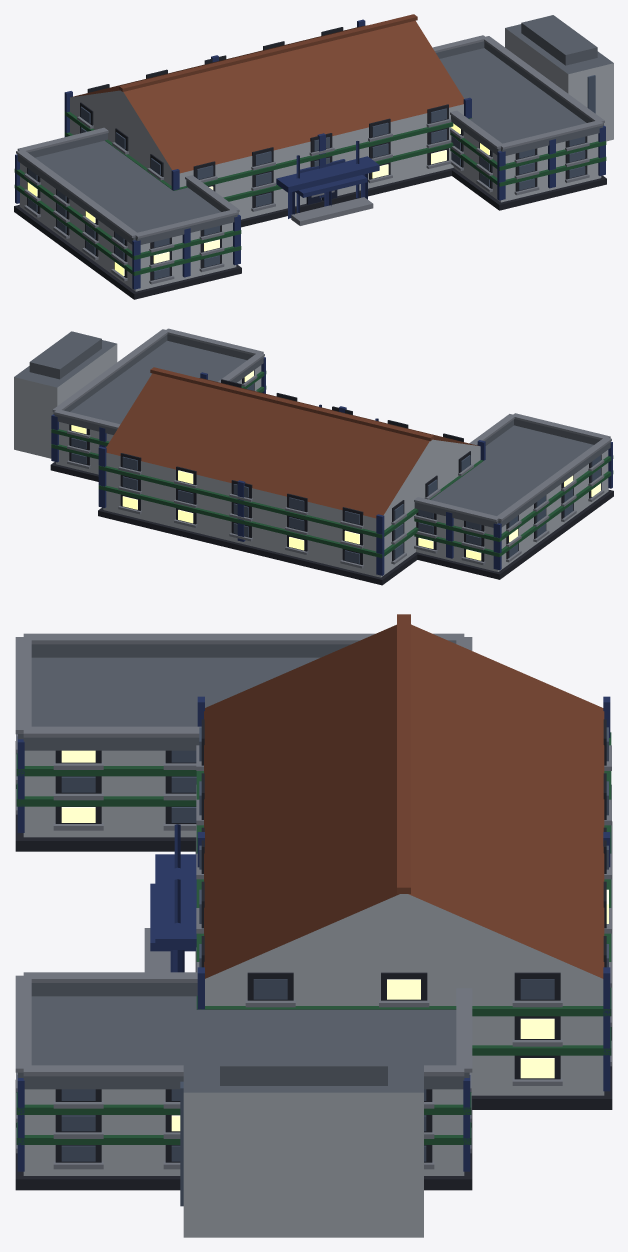
File: academic-high.glb
3 views of the same model, one above another, from view 1: azimuth 30°, elevation 25°; view 2: azimuth 150°, elevation 25°; view 3: azimuth 270°, elevation 25° (orthographic). The views are drawn at different scales.
Bounding box in the file's own units: 115 × 24.25 × 59.6.
